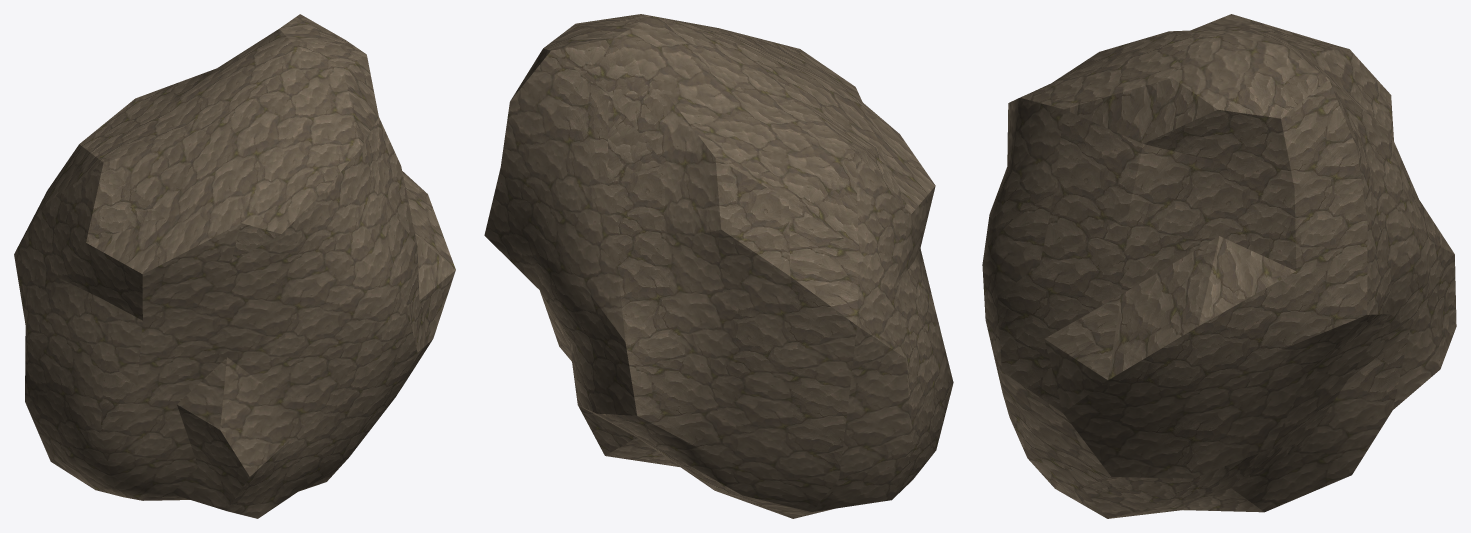
Rendered from grock_n.glb.
The picture shows the model from 3 angles, left to right: view 1: azimuth 30°, elevation 25°; view 2: azimuth 150°, elevation 25°; view 3: azimuth 270°, elevation 25°; orthographic projection. The views are drawn at different scales.
Parts seen in each view (by area): view 1: model; view 2: model; view 3: model.
Boxes of the visible parts, x1,y1,x2,y2 form: model: (14, 14, 455, 518); model: (484, 14, 953, 518); model: (982, 14, 1456, 518).
Bounding box in the file's own units: 3.43 × 3.52 × 3.
Materials: 1 (1 with a texture image).
